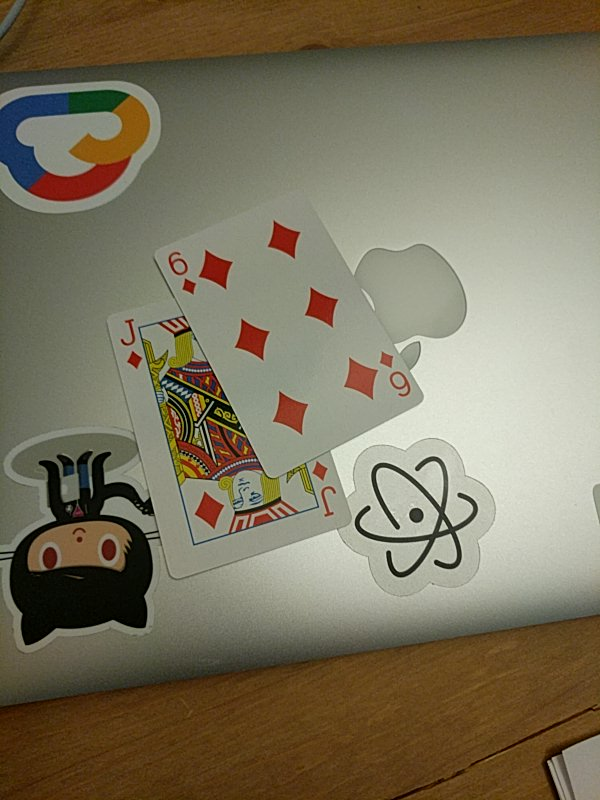Diamonds: (154, 190, 427, 478), (107, 295, 355, 581)
